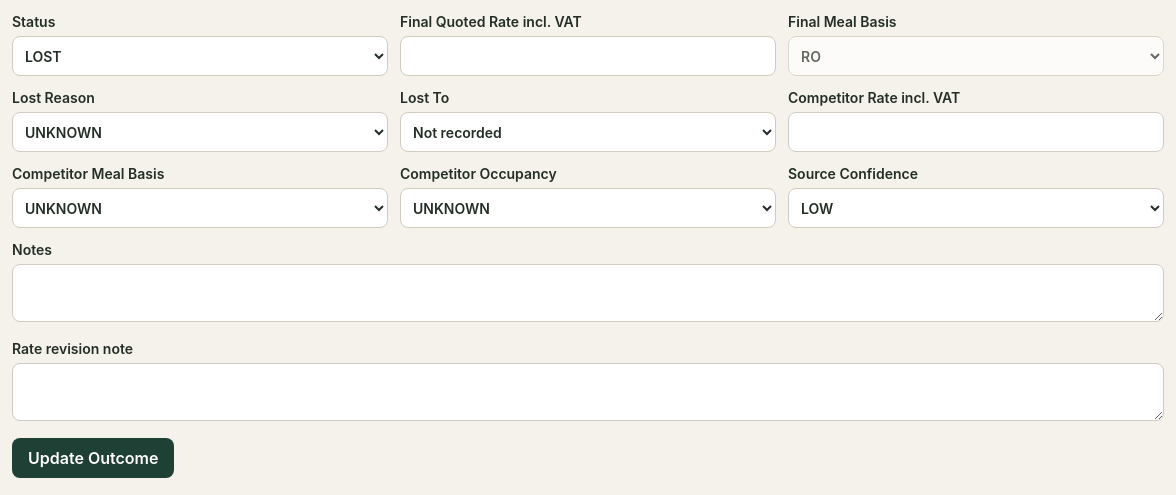
Test: commercial evidence form recovery › preserves a blank unknown competitor rate and retries failed outcomes with retained inputs
Type "Commercial context" into the text box labelled "Notes" at (588, 293), box x1=12 y1=264 x2=1164 y2=322
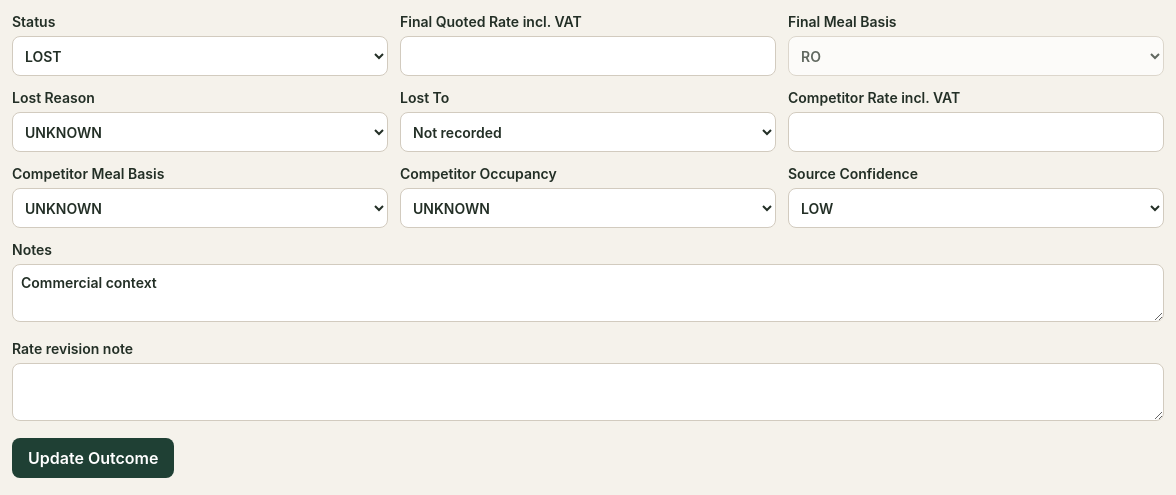
Select "Competitor" in the dropdown labelled "Lost To" at (588, 132), box x1=400 y1=112 x2=776 y2=152
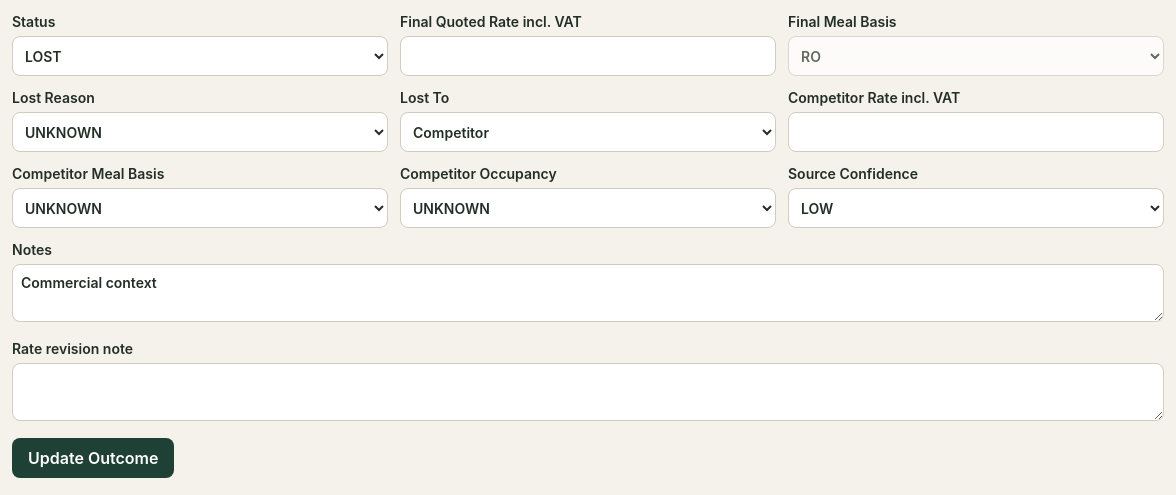
Click the button "Update Outcome" at (93, 458), box x1=12 y1=438 x2=174 y2=478
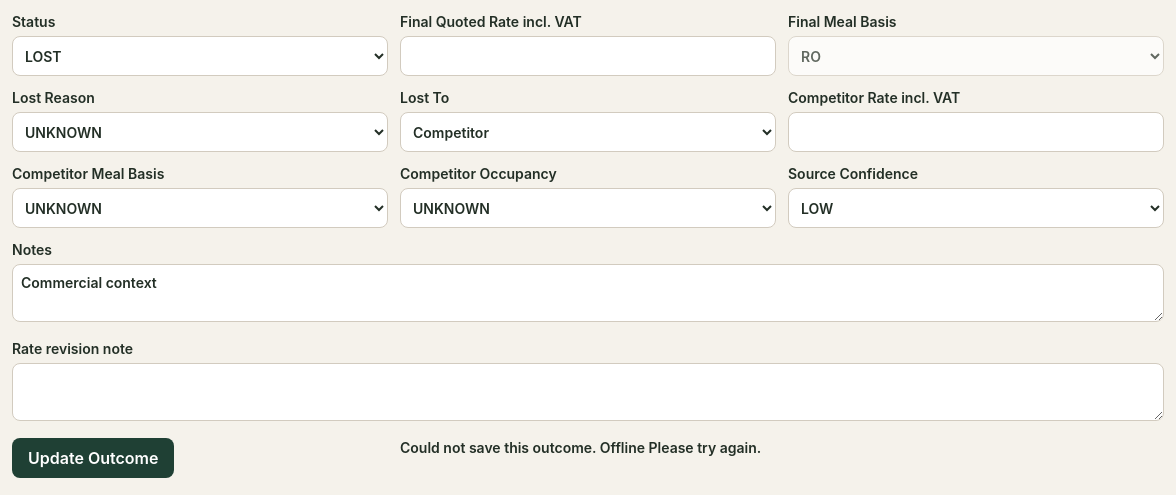
Now the message shows "Offline", box x1=400 y1=439 x2=761 y2=456
Click the button "Update Outcome" at (93, 458), box x1=12 y1=438 x2=174 y2=478
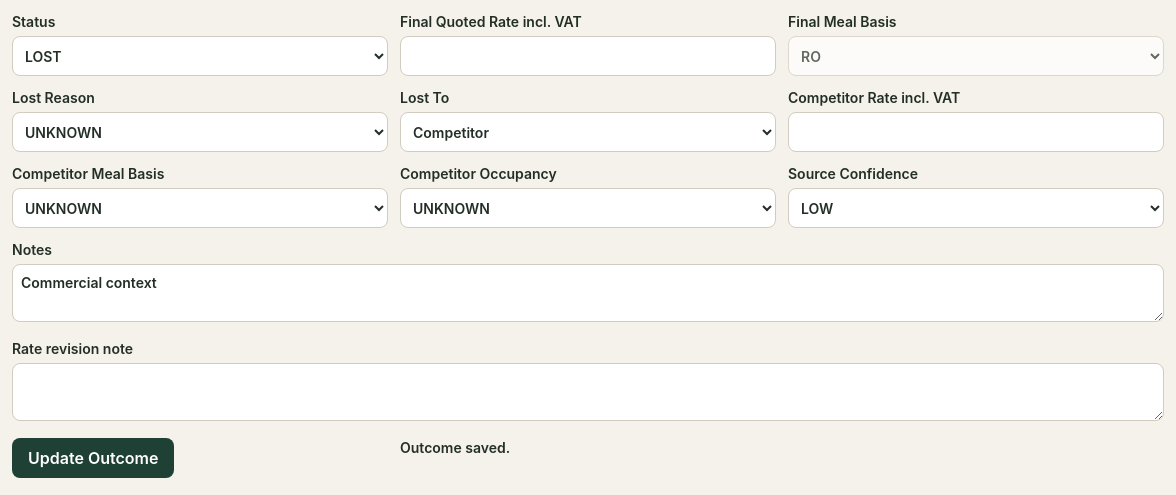
Now the message shows "saved", box x1=400 y1=439 x2=510 y2=456
